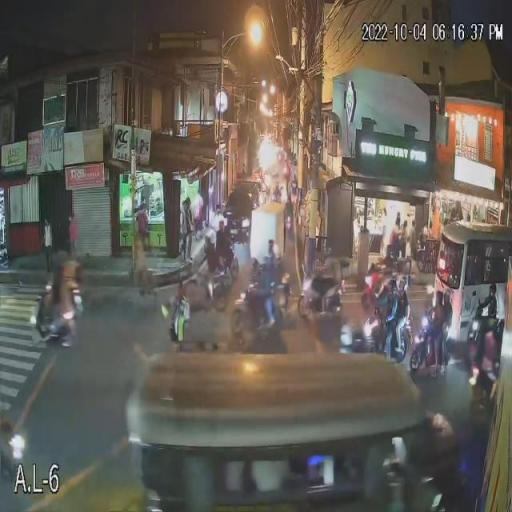helmet: (426, 295, 436, 306), (384, 276, 394, 286), (267, 251, 277, 261), (480, 282, 490, 291)
motorcycle: (236, 273, 292, 340), (30, 277, 82, 347), (361, 303, 411, 366), (466, 310, 503, 388), (410, 306, 448, 378), (298, 266, 344, 320), (205, 247, 238, 306), (360, 266, 387, 320)
rider: (46, 254, 79, 341), (250, 242, 282, 326), (420, 284, 446, 367), (382, 276, 408, 354), (302, 262, 336, 310), (472, 282, 498, 340), (166, 278, 190, 338), (366, 262, 389, 318), (216, 224, 234, 275)
